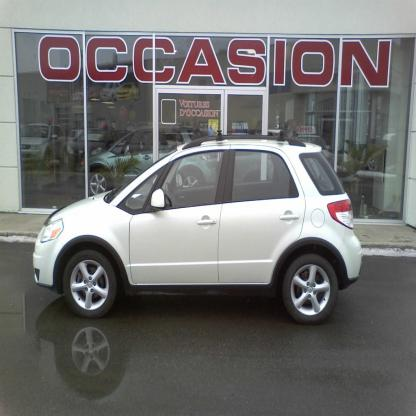Vehicle: (32, 133, 364, 327)
